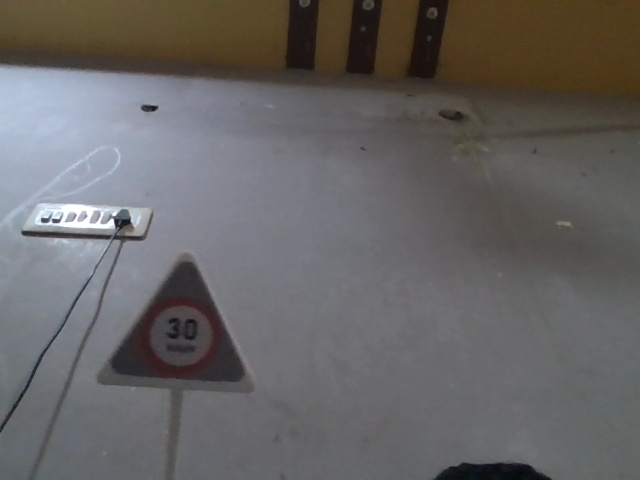speedlimit: (105, 243, 267, 405)
